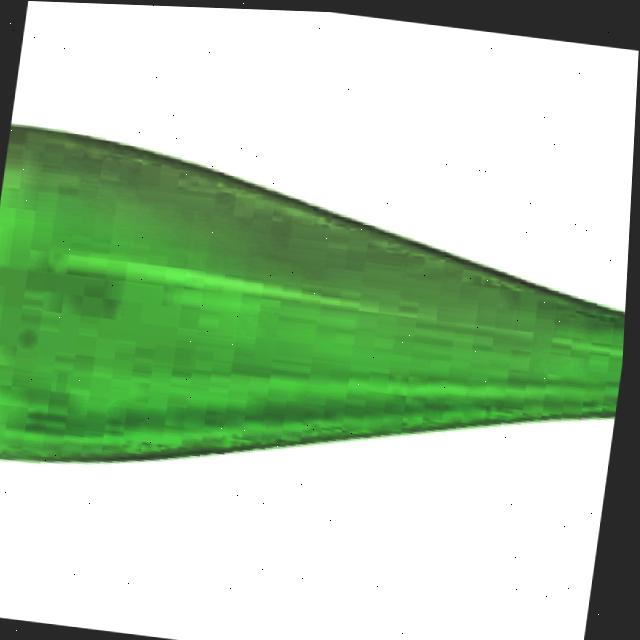glass: (0, 118, 635, 539)
